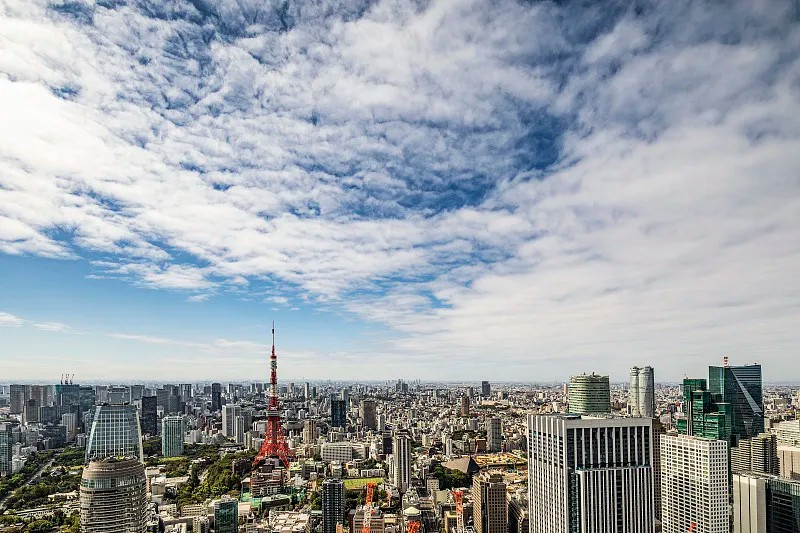Tokyo: (251, 312, 295, 470)
